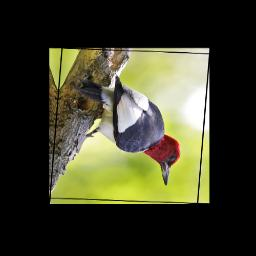Woodpecker: (65, 74, 185, 185)
